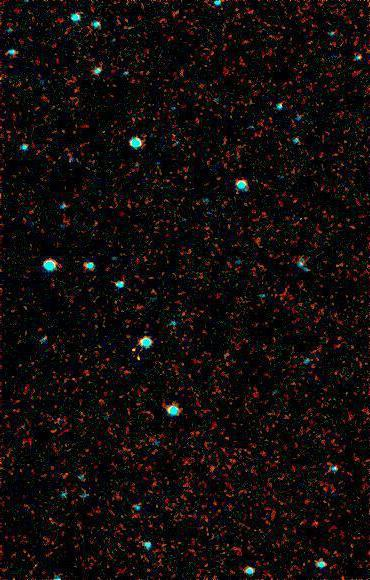star: (120, 340, 150, 370)
